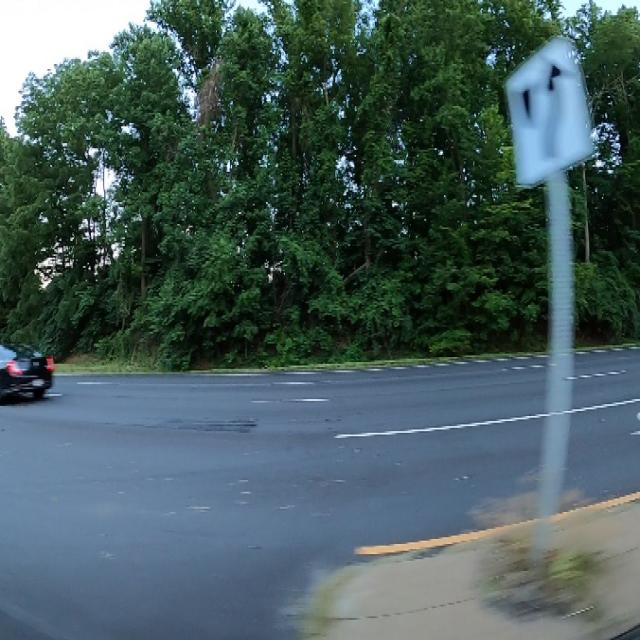car: (0, 320, 55, 414)
